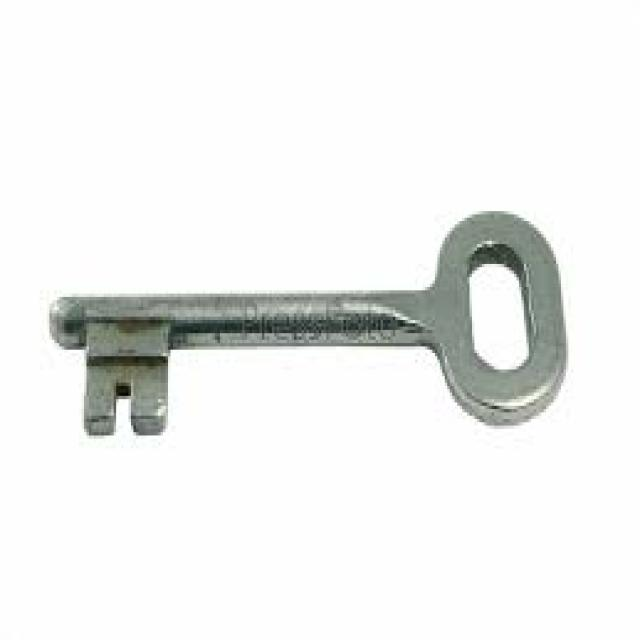key: (28, 187, 600, 454)
